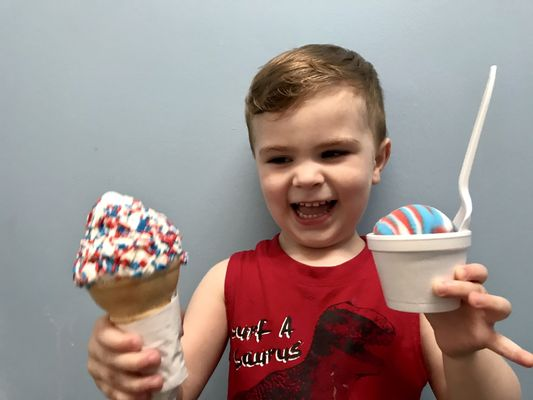pizza: (365, 231, 472, 315)
